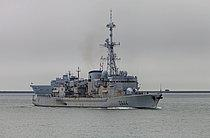MIL_Ship: (29, 15, 163, 109)
